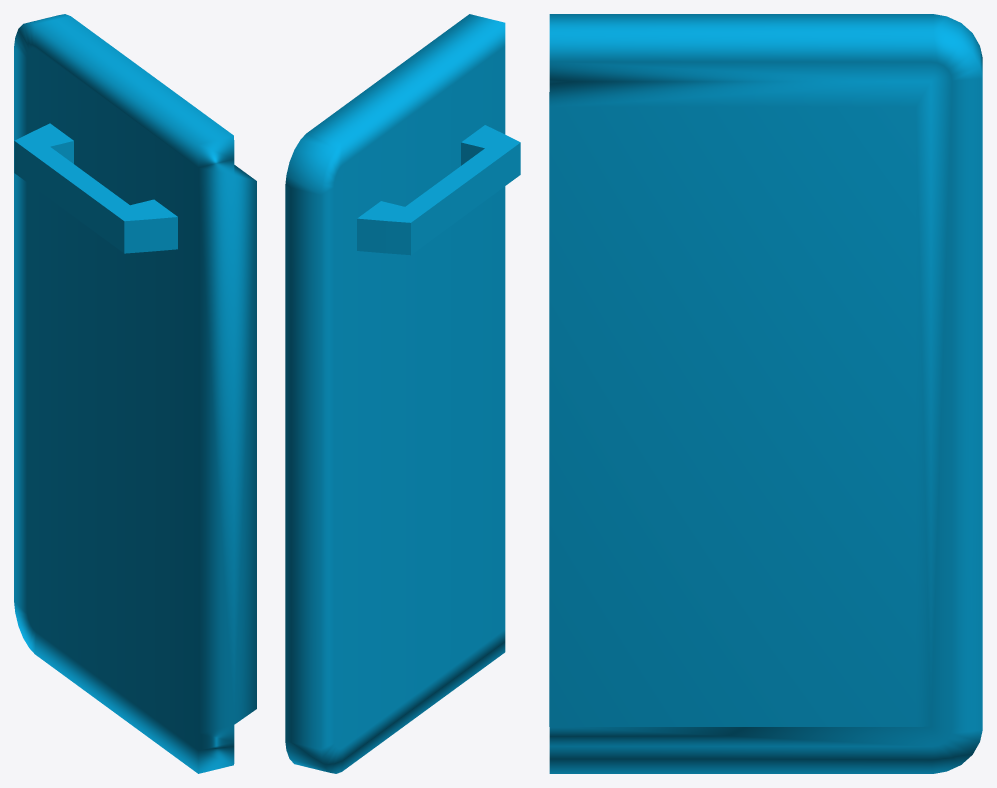
Rendered from Restaurant_Electric_Fryer_Door_01_Lod0.fbx.
The picture shows the model from 3 angles, left to right: view 1: azimuth 30°, elevation 25°; view 2: azimuth 150°, elevation 25°; view 3: azimuth 270°, elevation 25°; orthographic projection. The views are drawn at different scales.
Parts seen in each view (by area): view 1: Restaurant_Electric_Fryer_Door_01_Lod0; view 2: Restaurant_Electric_Fryer_Door_01_Lod0; view 3: Restaurant_Electric_Fryer_Door_01_Lod0.
Boxes of the visible parts, left/top/right/bottom form: Restaurant_Electric_Fryer_Door_01_Lod0: left=14, top=14, right=256, bottom=773; Restaurant_Electric_Fryer_Door_01_Lod0: left=285, top=14, right=520, bottom=773; Restaurant_Electric_Fryer_Door_01_Lod0: left=549, top=14, right=982, bottom=773.
Size of the model in its own units: 8.53 by 49.79 by 26.46.
